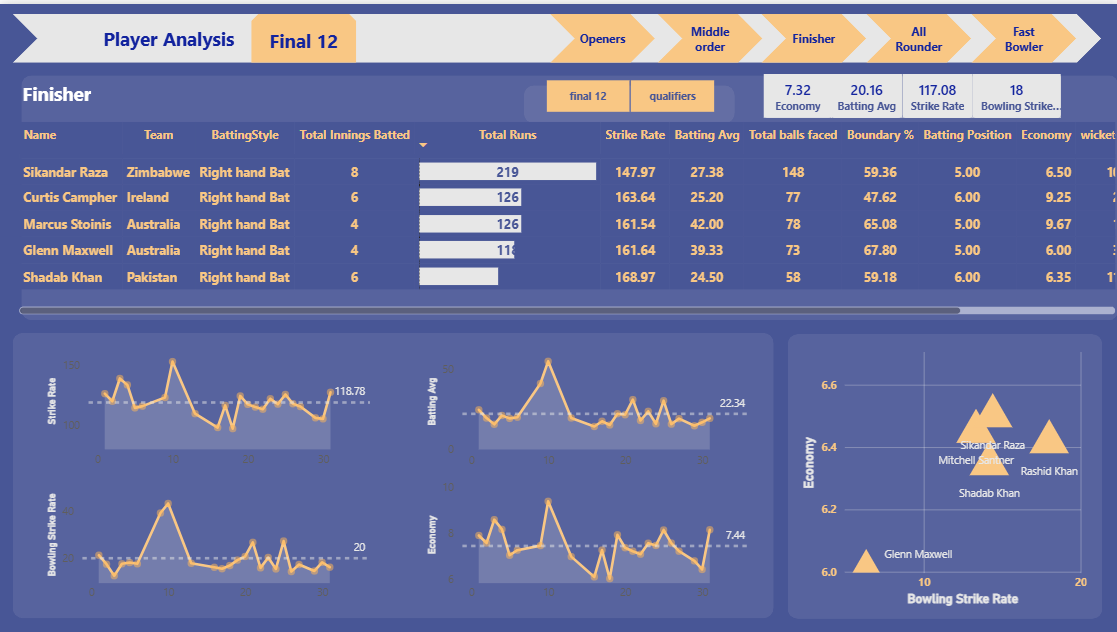

This screenshot's page, from the dashboard's own definition file:
{"tool":"powerbi","page":{"name":"Finisher","canvas":[1280,720],"ordinal":2},"visuals":[{"type":"shape","box":[598.8,92.5,241.2,43.8],"z":0},{"type":"shape","box":[900,377.1,360,325.7],"z":1000},{"type":"shape","box":[24.4,81.1,1255.6,280],"z":2000},{"type":"shape","box":[13.8,375,870,326.2],"z":3000},{"type":"areaChart","fields":{"Y":["key measures.Strike Rate"],"Category":["dim_match_summary.matchDate.Variation.Date Hierarchy.Day"]},"box":[48.8,386.2,378.8,152.5],"z":4000},{"type":"areaChart","fields":{"Category":["dim_match_summary.matchDate.Variation.Date Hierarchy.Day"],"Y":["key measures.Bowling Strike Rate"]},"box":[48.8,538.8,378.8,152.5],"z":5000},{"type":"areaChart","fields":{"Category":["dim_match_summary.matchDate.Variation.Date Hierarchy.Day"],"Y":["key measures.Economy"]},"box":[482.5,538.8,378.8,152.5],"z":6000},{"type":"areaChart","fields":{"Category":["dim_match_summary.matchDate.Variation.Date Hierarchy.Day"],"Y":["key measures.Batting Avg"]},"box":[482.5,385,378.8,153.8],"z":7000},{"type":"slicer","fields":{"Values":["dim_match_summary.stage"]},"box":[598.6,80,241.4,50],"z":8000},{"type":"cardVisual","fields":{"Data":["key measures.Strike Rate"]},"box":[1031.4,80,80,50],"z":9000},{"type":"cardVisual","fields":{"Data":["key measures.Batting Avg"]},"box":[950,80,81.1,50],"z":10000},{"type":"cardVisual","fields":{"Data":["key measures.Bowling Strike Rate"]},"box":[1111.1,80,101.1,50],"z":11000},{"type":"cardVisual","fields":{"Data":["key measures.Economy"]},"box":[872.2,80,78.9,50],"z":12000},{"type":"shape","box":[25,73.8,140,56.2],"z":13000},{"type":"shape","box":[14.3,11.4,1244.3,55.7],"z":14000},{"type":"shape","box":[751.4,11.4,120,55.7],"z":15000},{"type":"shape","box":[870,11.4,120,55.7],"z":16000},{"type":"shape","box":[990,11.4,120,55.7],"z":17000},{"type":"shape","box":[1110,11.4,120,55.7],"z":18000},{"type":"shape","box":[628.6,11.4,120,55.7],"z":19000},{"type":"shape","box":[287.1,11.4,120,55.7],"z":20000},{"type":"shape","box":[114.3,11.4,157.1,55.7],"z":21000},{"type":"scatterChart","title":"Economy Vs Bowling Strike Rate","fields":{"Category":["dim_players.name"],"X":["key measures.Bowling Strike Rate"],"Y":["key measures.Economy"]},"box":[911.4,385.7,335.7,307.1],"z":22000},{"type":"tableEx","fields":{"Values":["dim_players.name","dim_players.team","dim_players.battingStyle","key measures.Total Innings Batted","key measures.Total Runs","key measures.Strike Rate","key measures.Batting Avg","key measures.total balls faced","key measures.Boundary %","key measures.Batting Position","key measures.Economy","key measures.wickets"]},"box":[15,130,1265,230],"z":23000}]}

Visuals, with their boxes in screenshot pixels (x1, y1, x2, y2), scaled from the page's 1280x720 canvas onto the 1117x632 screenshot:
shape: region(523, 81, 733, 120)
shape: region(785, 331, 1100, 617)
shape: region(21, 71, 1116, 317)
shape: region(12, 329, 771, 615)
areaChart - key measures.Strike Rate x dim_match_summary.matchDate.Variation.Date Hierarchy.Day: region(43, 339, 373, 473)
areaChart - dim_match_summary.matchDate.Variation.Date Hierarchy.Day x key measures.Bowling Strike Rate: region(43, 473, 373, 607)
areaChart - dim_match_summary.matchDate.Variation.Date Hierarchy.Day x key measures.Economy: region(421, 473, 752, 607)
areaChart - dim_match_summary.matchDate.Variation.Date Hierarchy.Day x key measures.Batting Avg: region(421, 338, 752, 473)
slicer - dim_match_summary.stage: region(522, 70, 733, 114)
cardVisual - key measures.Strike Rate: region(900, 70, 970, 114)
cardVisual - key measures.Batting Avg: region(829, 70, 900, 114)
cardVisual - key measures.Bowling Strike Rate: region(970, 70, 1058, 114)
cardVisual - key measures.Economy: region(761, 70, 830, 114)
shape: region(22, 65, 144, 114)
shape: region(12, 10, 1098, 59)
shape: region(656, 10, 760, 59)
shape: region(759, 10, 864, 59)
shape: region(864, 10, 969, 59)
shape: region(969, 10, 1073, 59)
shape: region(549, 10, 653, 59)
shape: region(251, 10, 355, 59)
shape: region(100, 10, 237, 59)
"Economy Vs Bowling Strike Rate" scatterChart: region(795, 339, 1088, 608)
tableEx - dim_players.name x dim_players.team: region(13, 114, 1116, 316)
